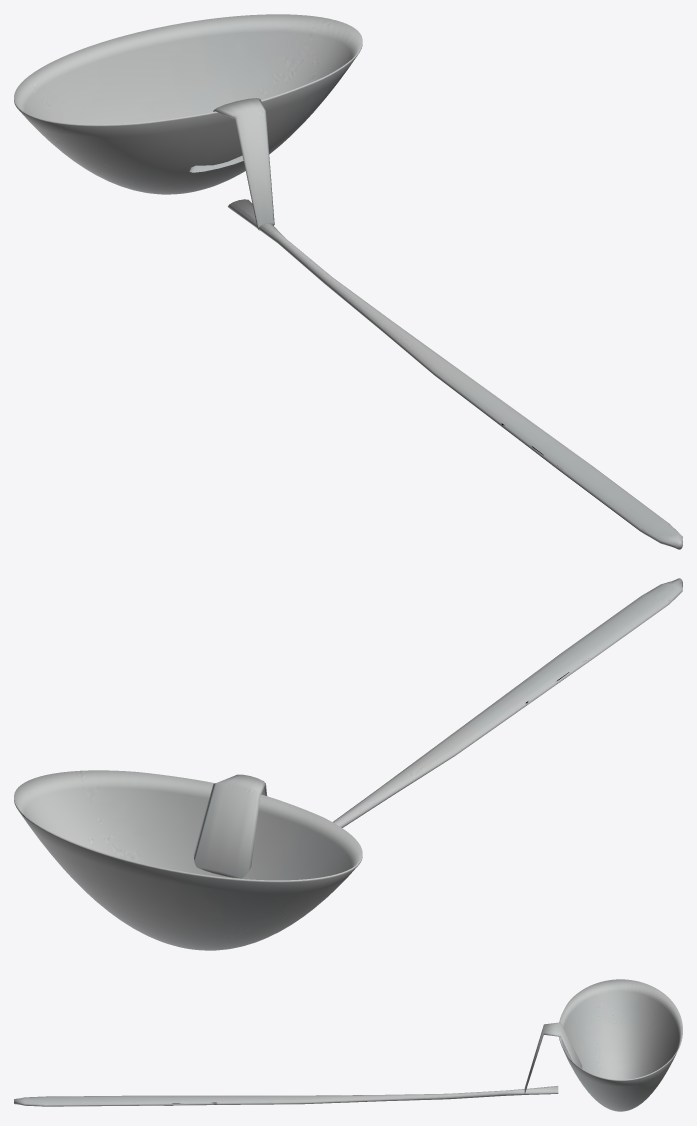
3 views of the same model, one above another, from view 1: azimuth 30°, elevation 25°; view 2: azimuth 150°, elevation 25°; view 3: azimuth 270°, elevation 25° (orthographic). The views are drawn at different scales.
Parts seen in each view (by area): view 1: body; view 2: body; view 3: body.
Boxes of the visible parts, x1,y1,x2,y2 form: body: [14, 14, 682, 549]; body: [14, 578, 682, 950]; body: [14, 979, 682, 1111].
Size of the model in its own units: 0.1263 by 0.0449 by 0.3552.
1 material, 1 textured.
